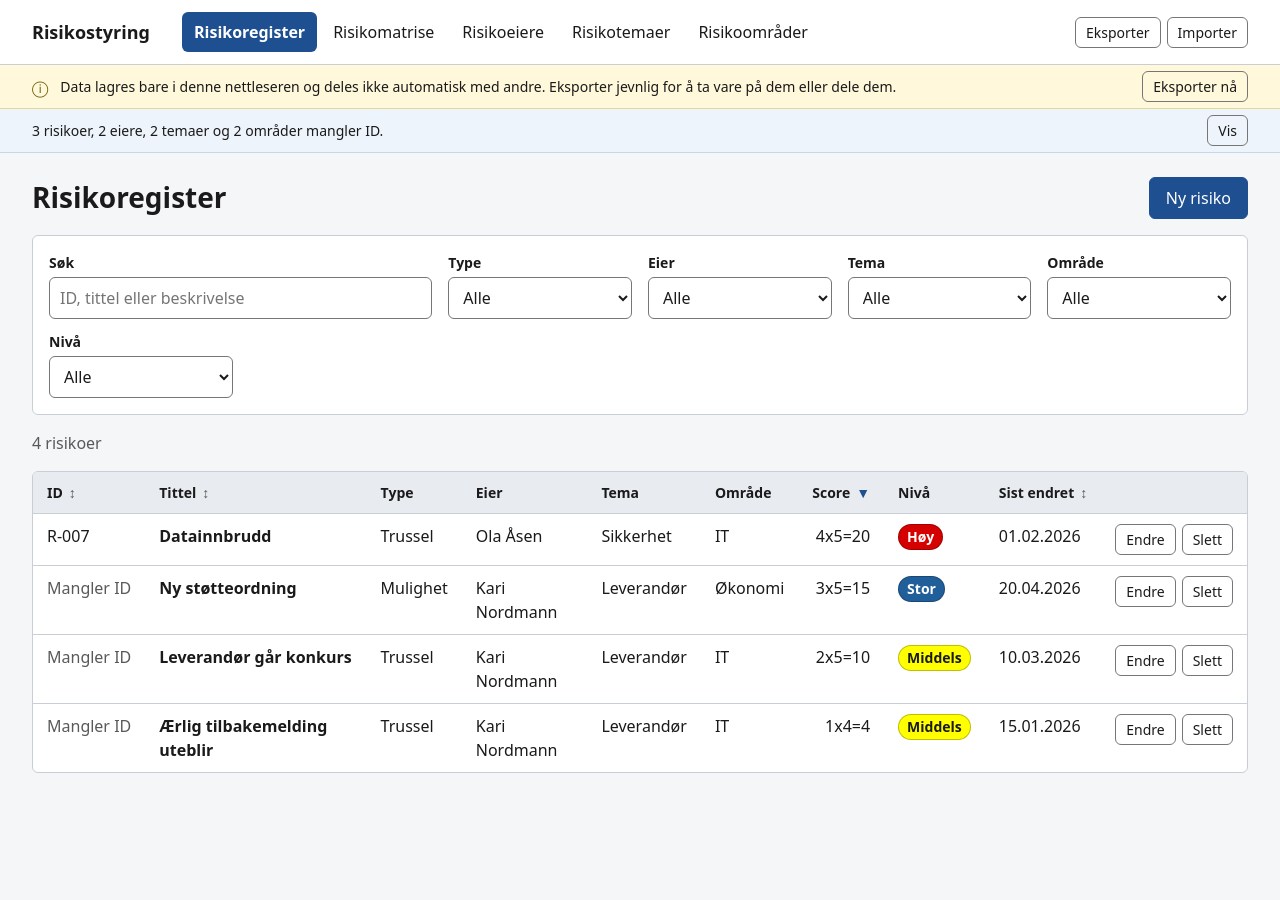
risikotabell (K3–K5) › sletting (K5) › sletter ingenting når brukeren avbryter
Expected: the heading "Risikoregister" is shown, x1=32 y1=181 x2=226 y2=215
Click the button with aria-label "Slett Datainnbrudd" at (1207, 540), box x1=1182 y1=524 x2=1233 y2=555
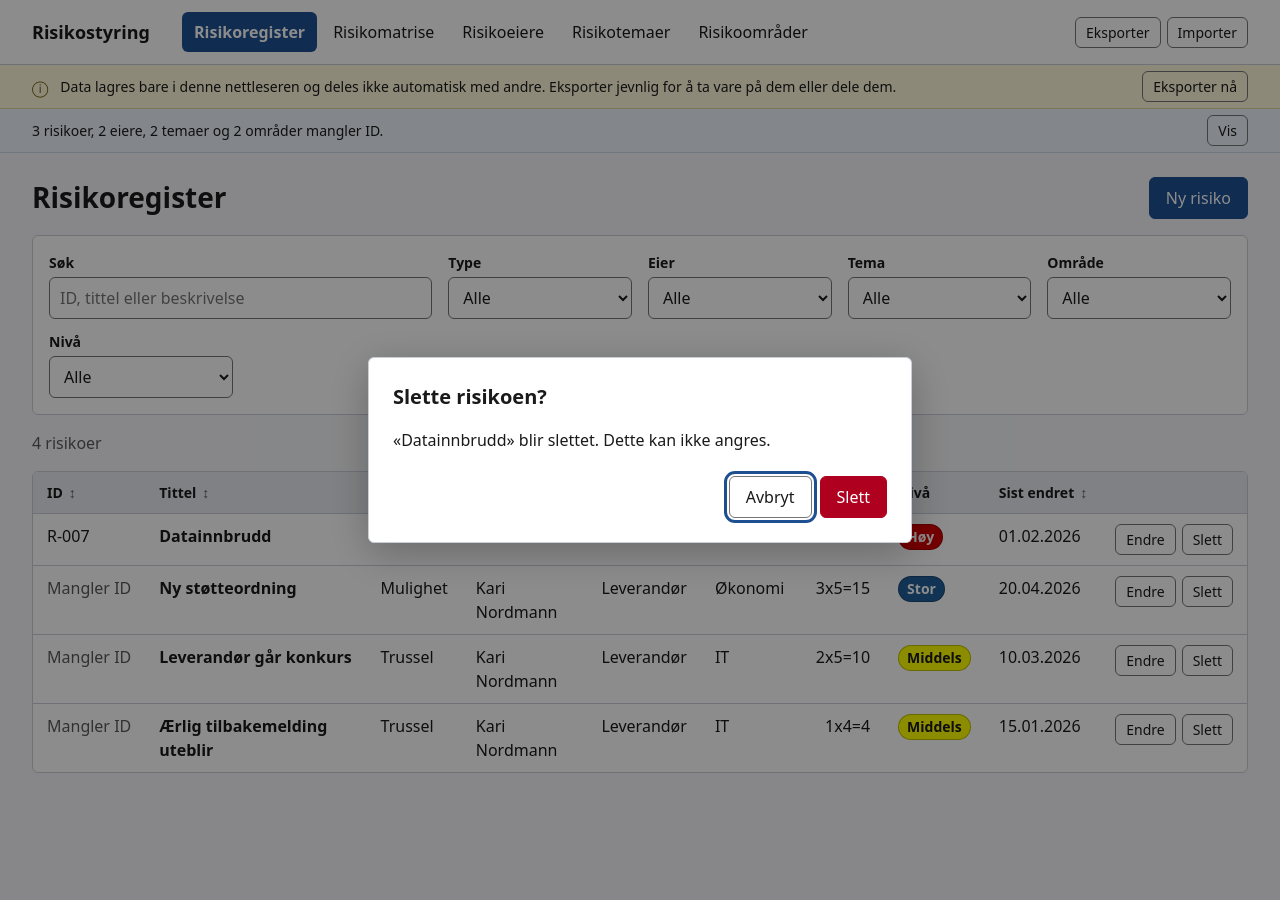
Click the button "Avbryt" at (770, 497), box x1=729 y1=476 x2=812 y2=518
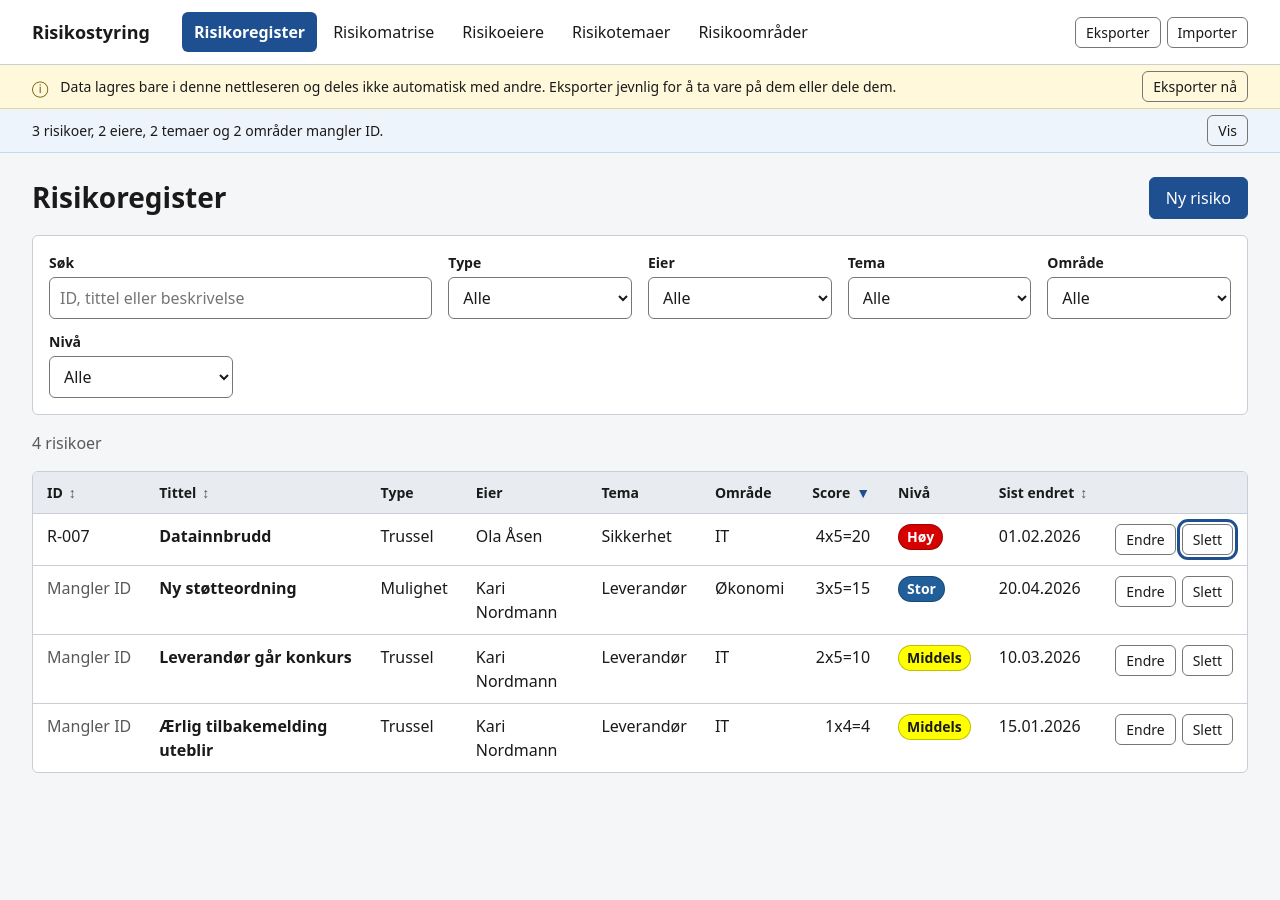
Expected: the column heading "Datainnbrudd" is shown, x1=145 y1=514 x2=367 y2=566
Expected: the dialog is gone
